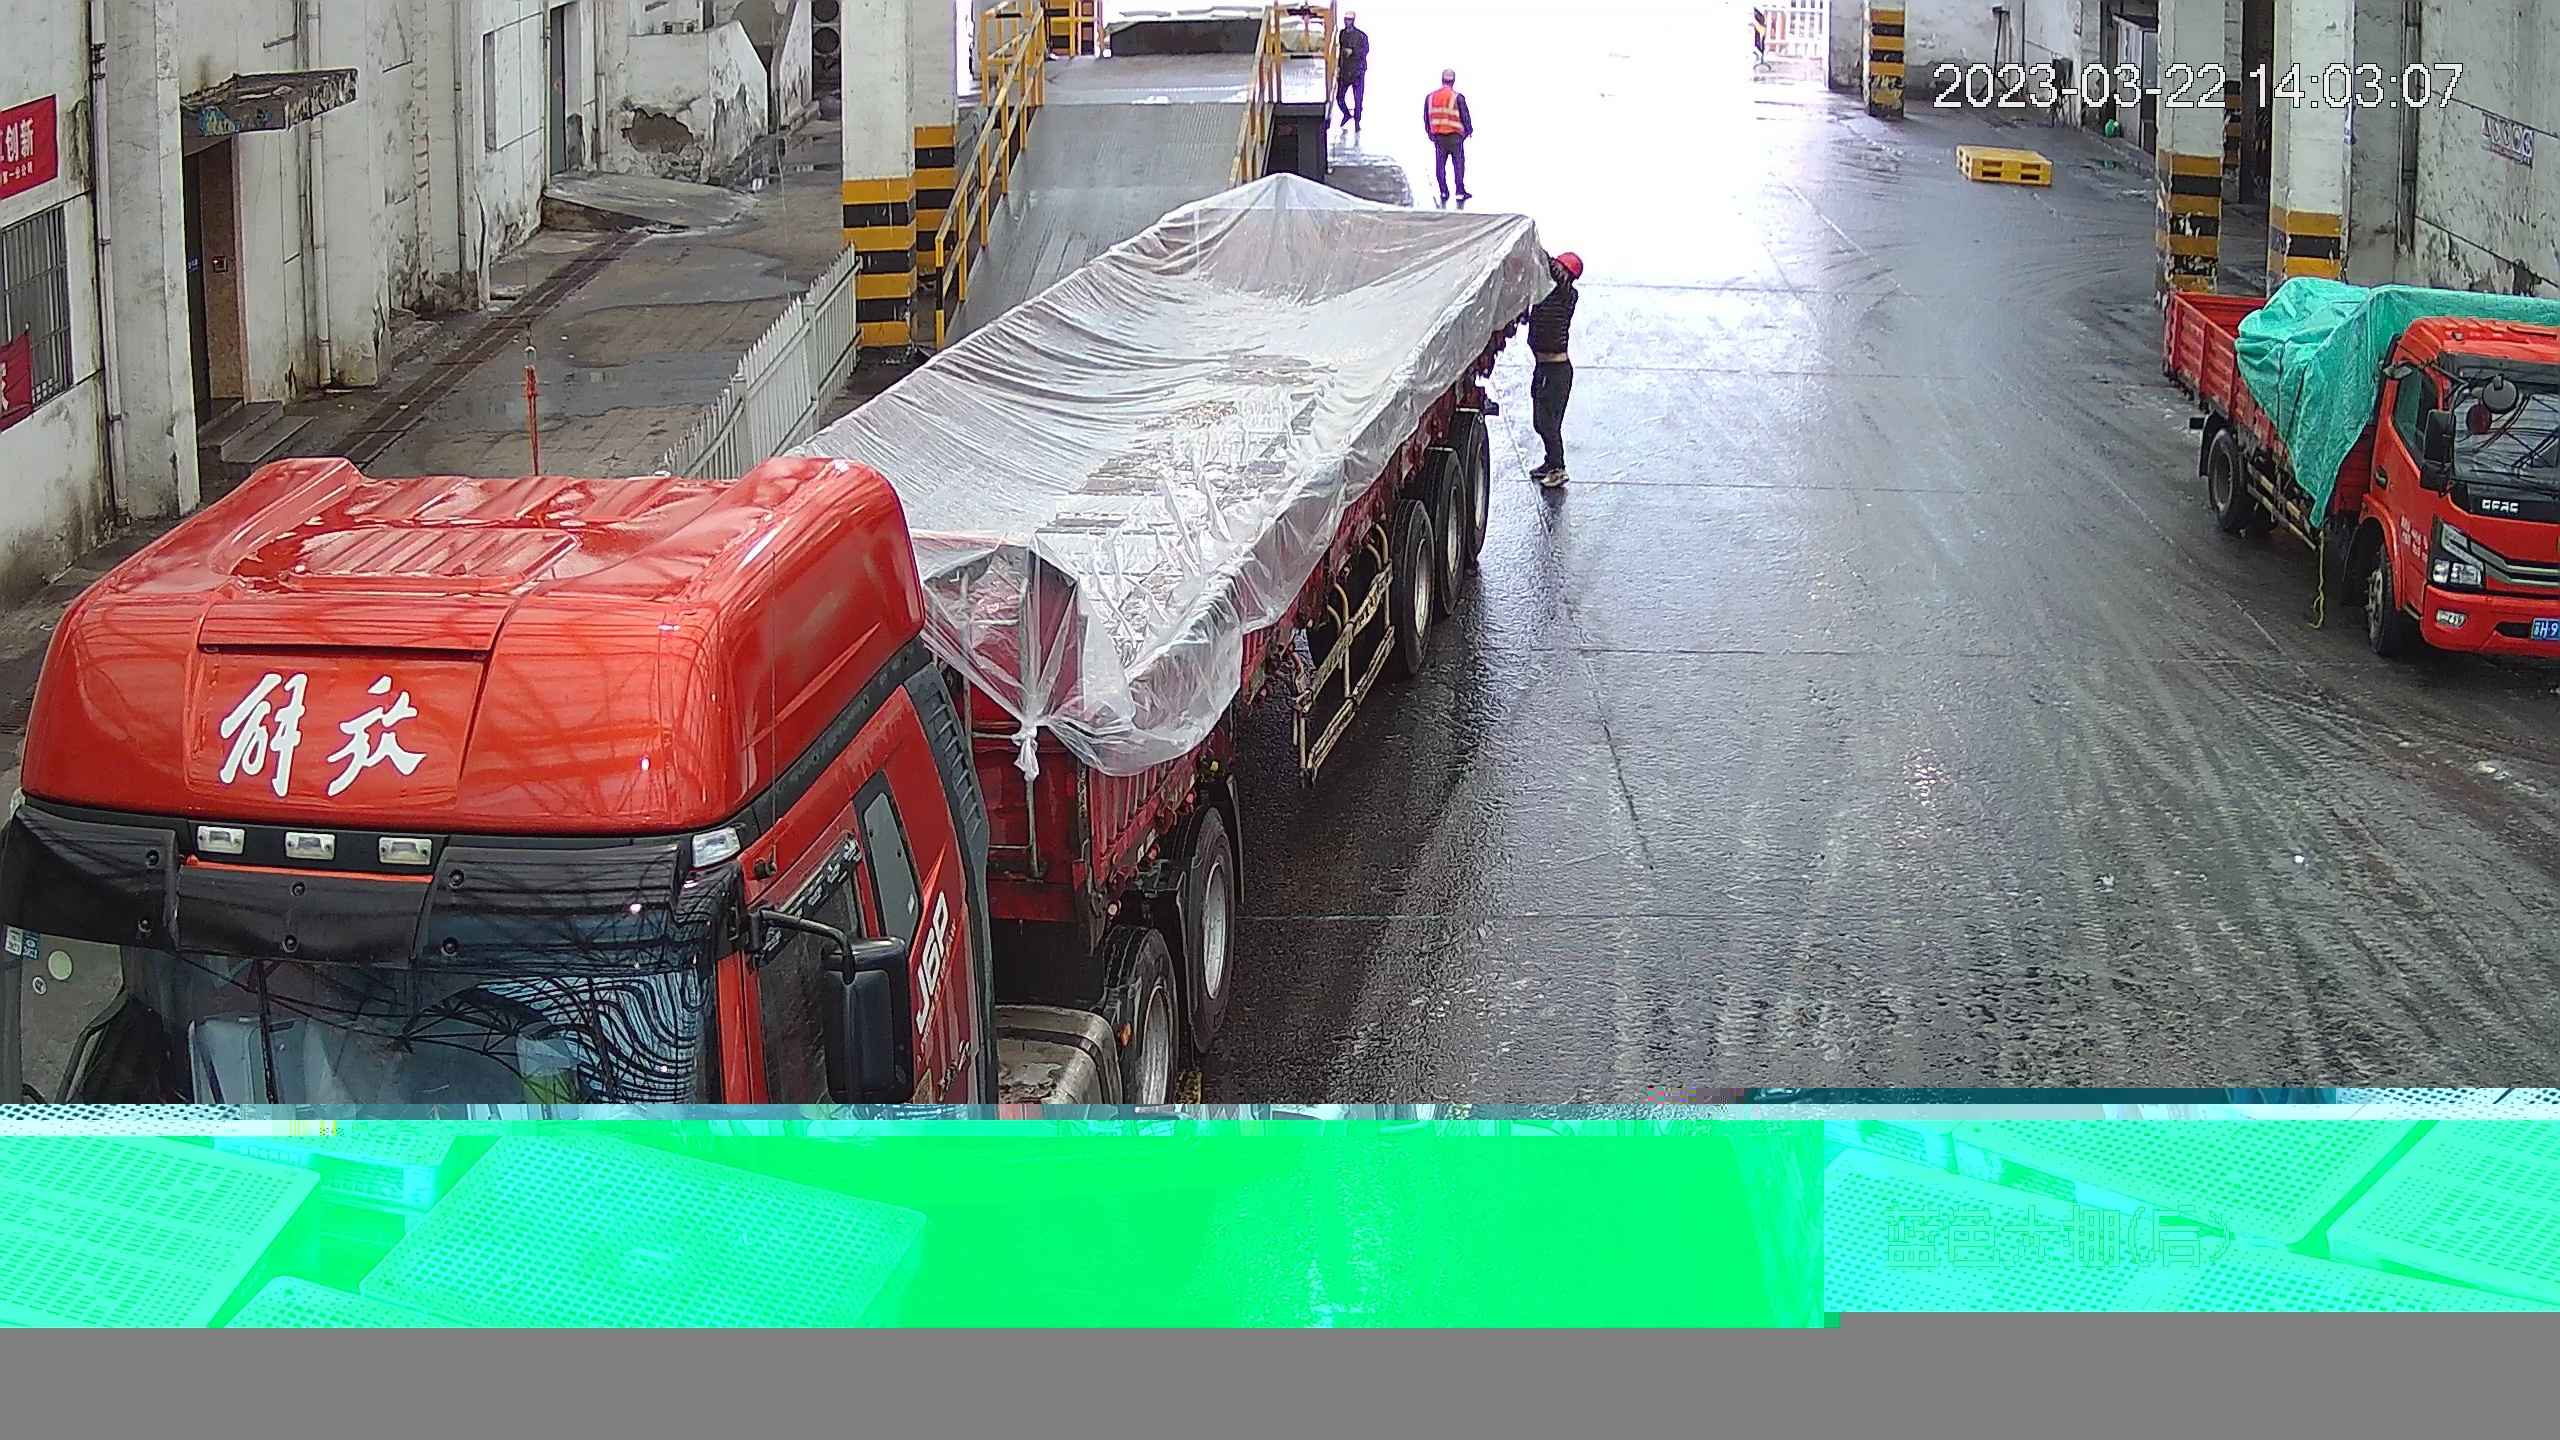head: (1535, 243, 1586, 316), (1427, 60, 1469, 109), (1337, 7, 1367, 48)
helmet: (1548, 243, 1581, 270), (1435, 60, 1462, 86), (1341, 10, 1357, 21)
people: (1521, 240, 1585, 501), (1421, 54, 1476, 204), (1334, 8, 1372, 136)
truck: (80, 186, 1540, 1196), (2158, 272, 2560, 687)
